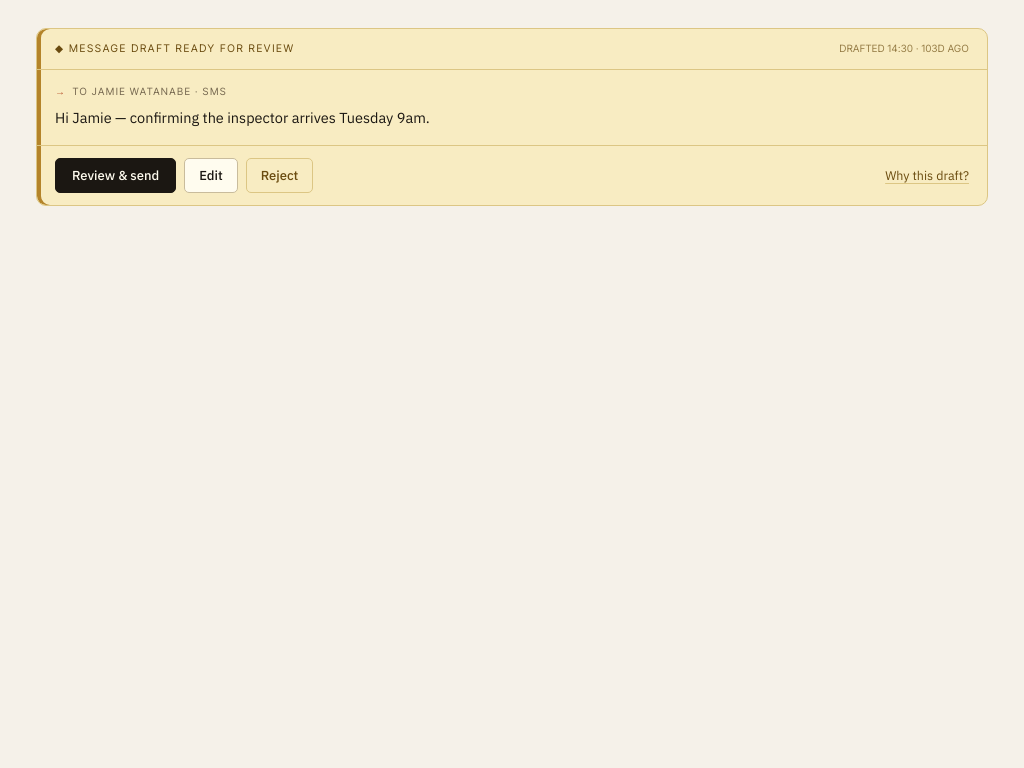
Test: DraftHeroCard › approve action (send-confirm gate) › should render context lines from the real case context when present
Click the button with test id "pending-draft-approve": x=116, y=175 [55, 158, 176, 193]
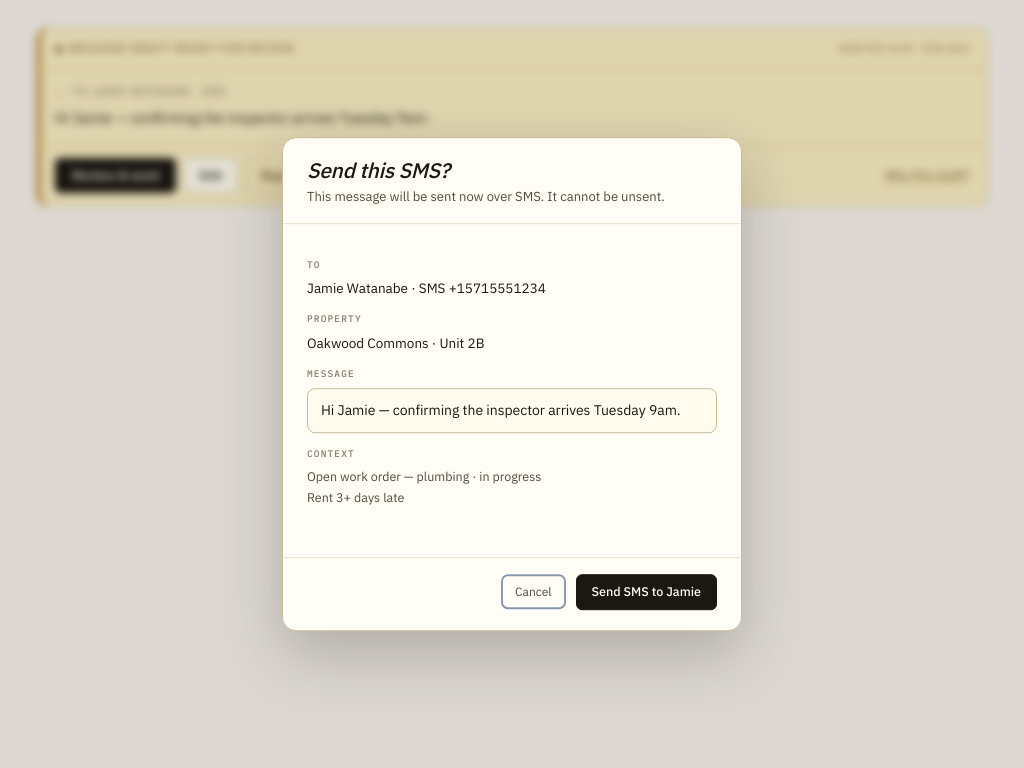
Expected: the list with test id "send-confirm-context" is shown, [307, 468, 541, 505]
Expected: the list with test id "send-confirm-context" shows "Open work order — plumbing · in progress", [307, 468, 541, 484]
Expected: the list with test id "send-confirm-context" shows "Rent 3+ days late", [307, 489, 404, 505]
